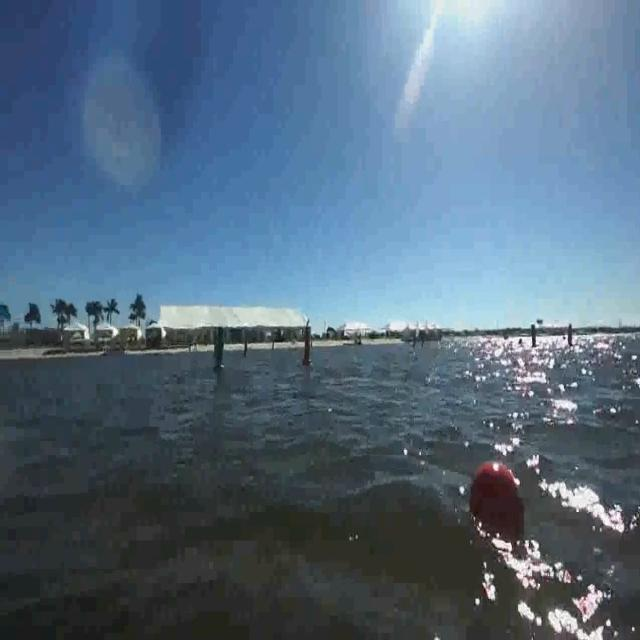green-column-buoy: (213, 327, 226, 372)
red-buoy: (466, 457, 528, 546)
red-column-buoy: (302, 329, 314, 366)
